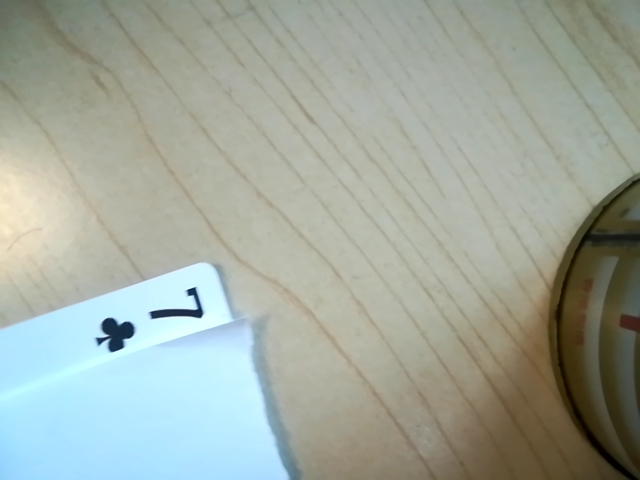mh 7: (75, 280, 235, 356)
